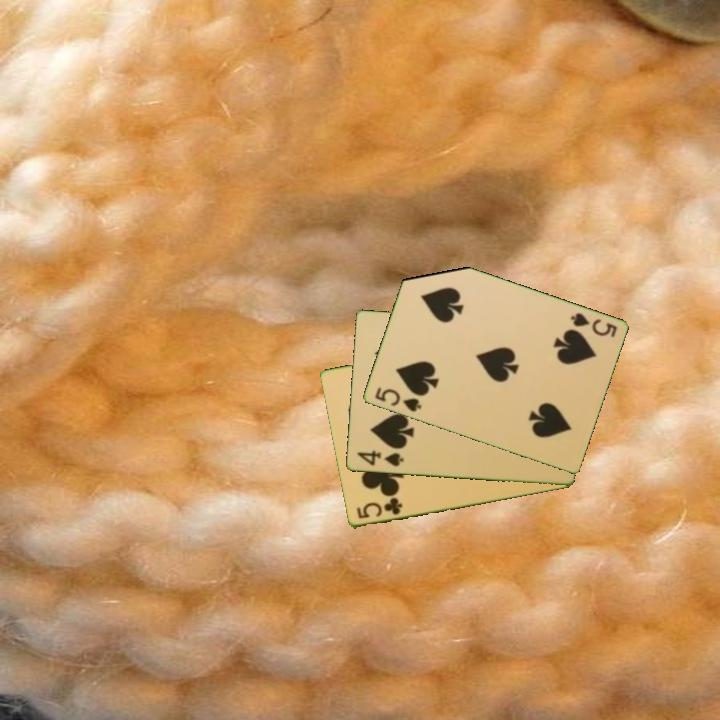4s: (353, 447, 406, 470)
5c: (353, 494, 405, 522)
5s: (371, 383, 424, 415), (567, 309, 620, 340)
